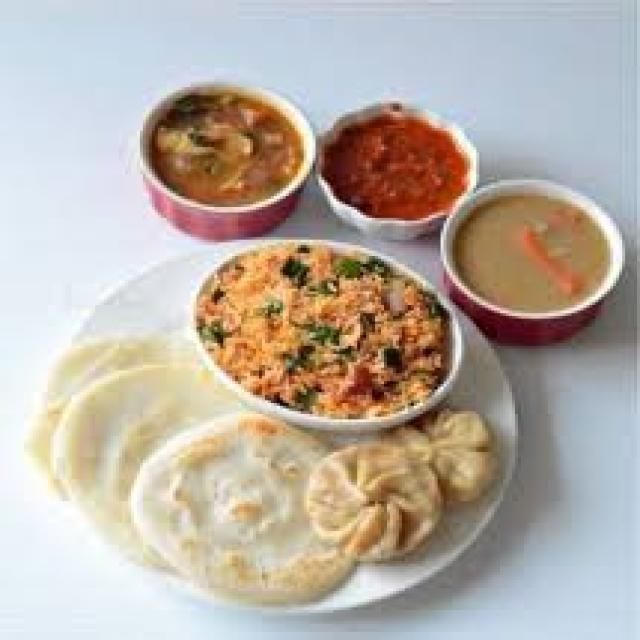sambar-rasam: (447, 189, 615, 318)
sweet: (137, 87, 306, 212), (449, 194, 612, 312)
veg-fry: (194, 236, 454, 434), (311, 105, 477, 225)
